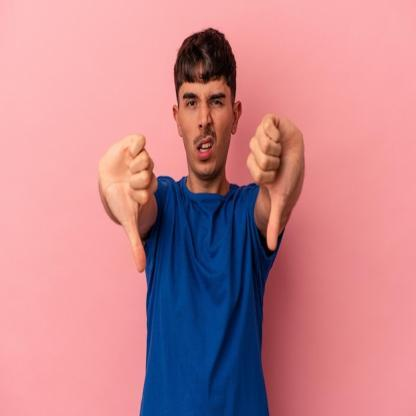thumb_down: (98, 129, 160, 277), (244, 107, 304, 254)
